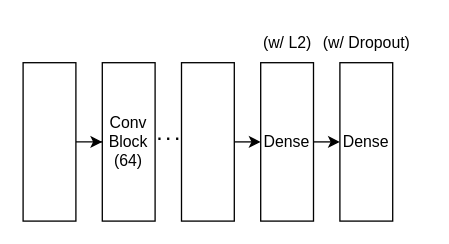
This 449x244 diagram has some shape labels left out. The shapes that lost their labels are listed below. From the top down, each one's box as (x1, y1, x2, y2) in pixels, then its label:
(22, 61, 76, 221): Conv Block (32)
(180, 61, 234, 221): Flatten
